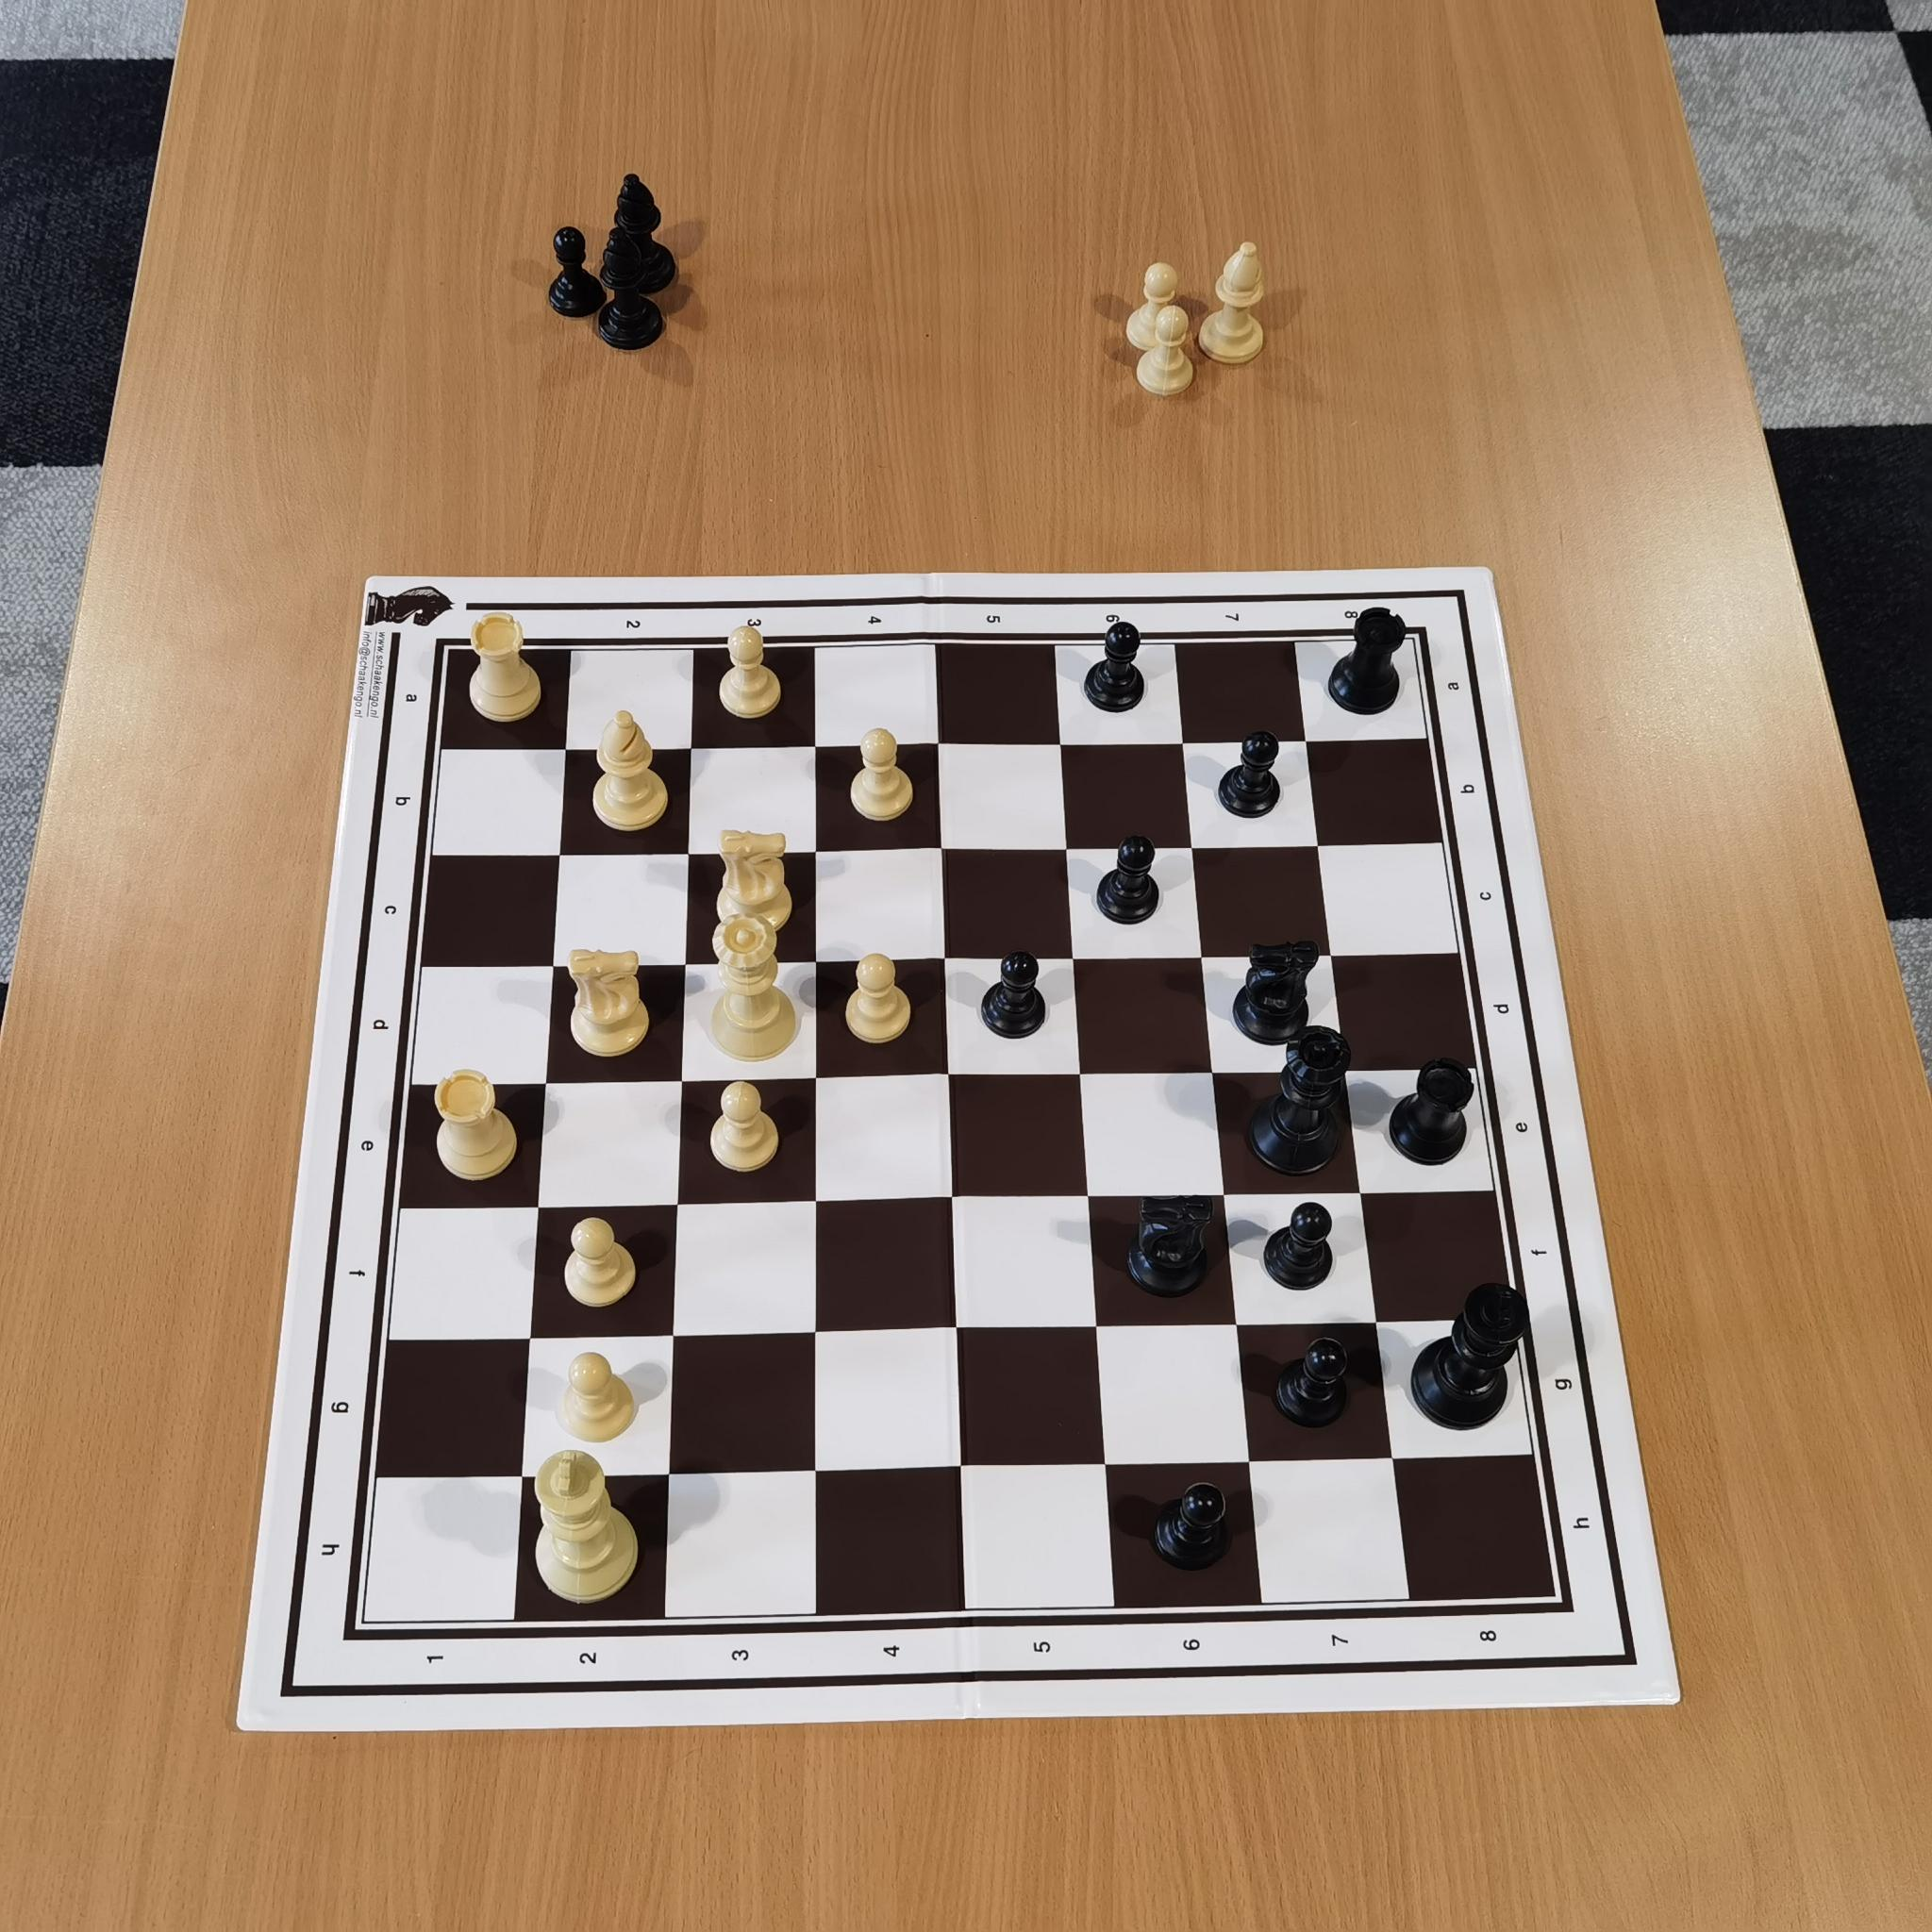corners: (421, 626, 471, 672), (343, 1594, 387, 1642), (1532, 1575, 1575, 1615), (1396, 617, 1438, 656)
eight: (1468, 1606, 1514, 1658), (1334, 605, 1373, 635)
one: (416, 1629, 462, 1672), (492, 614, 527, 646)
